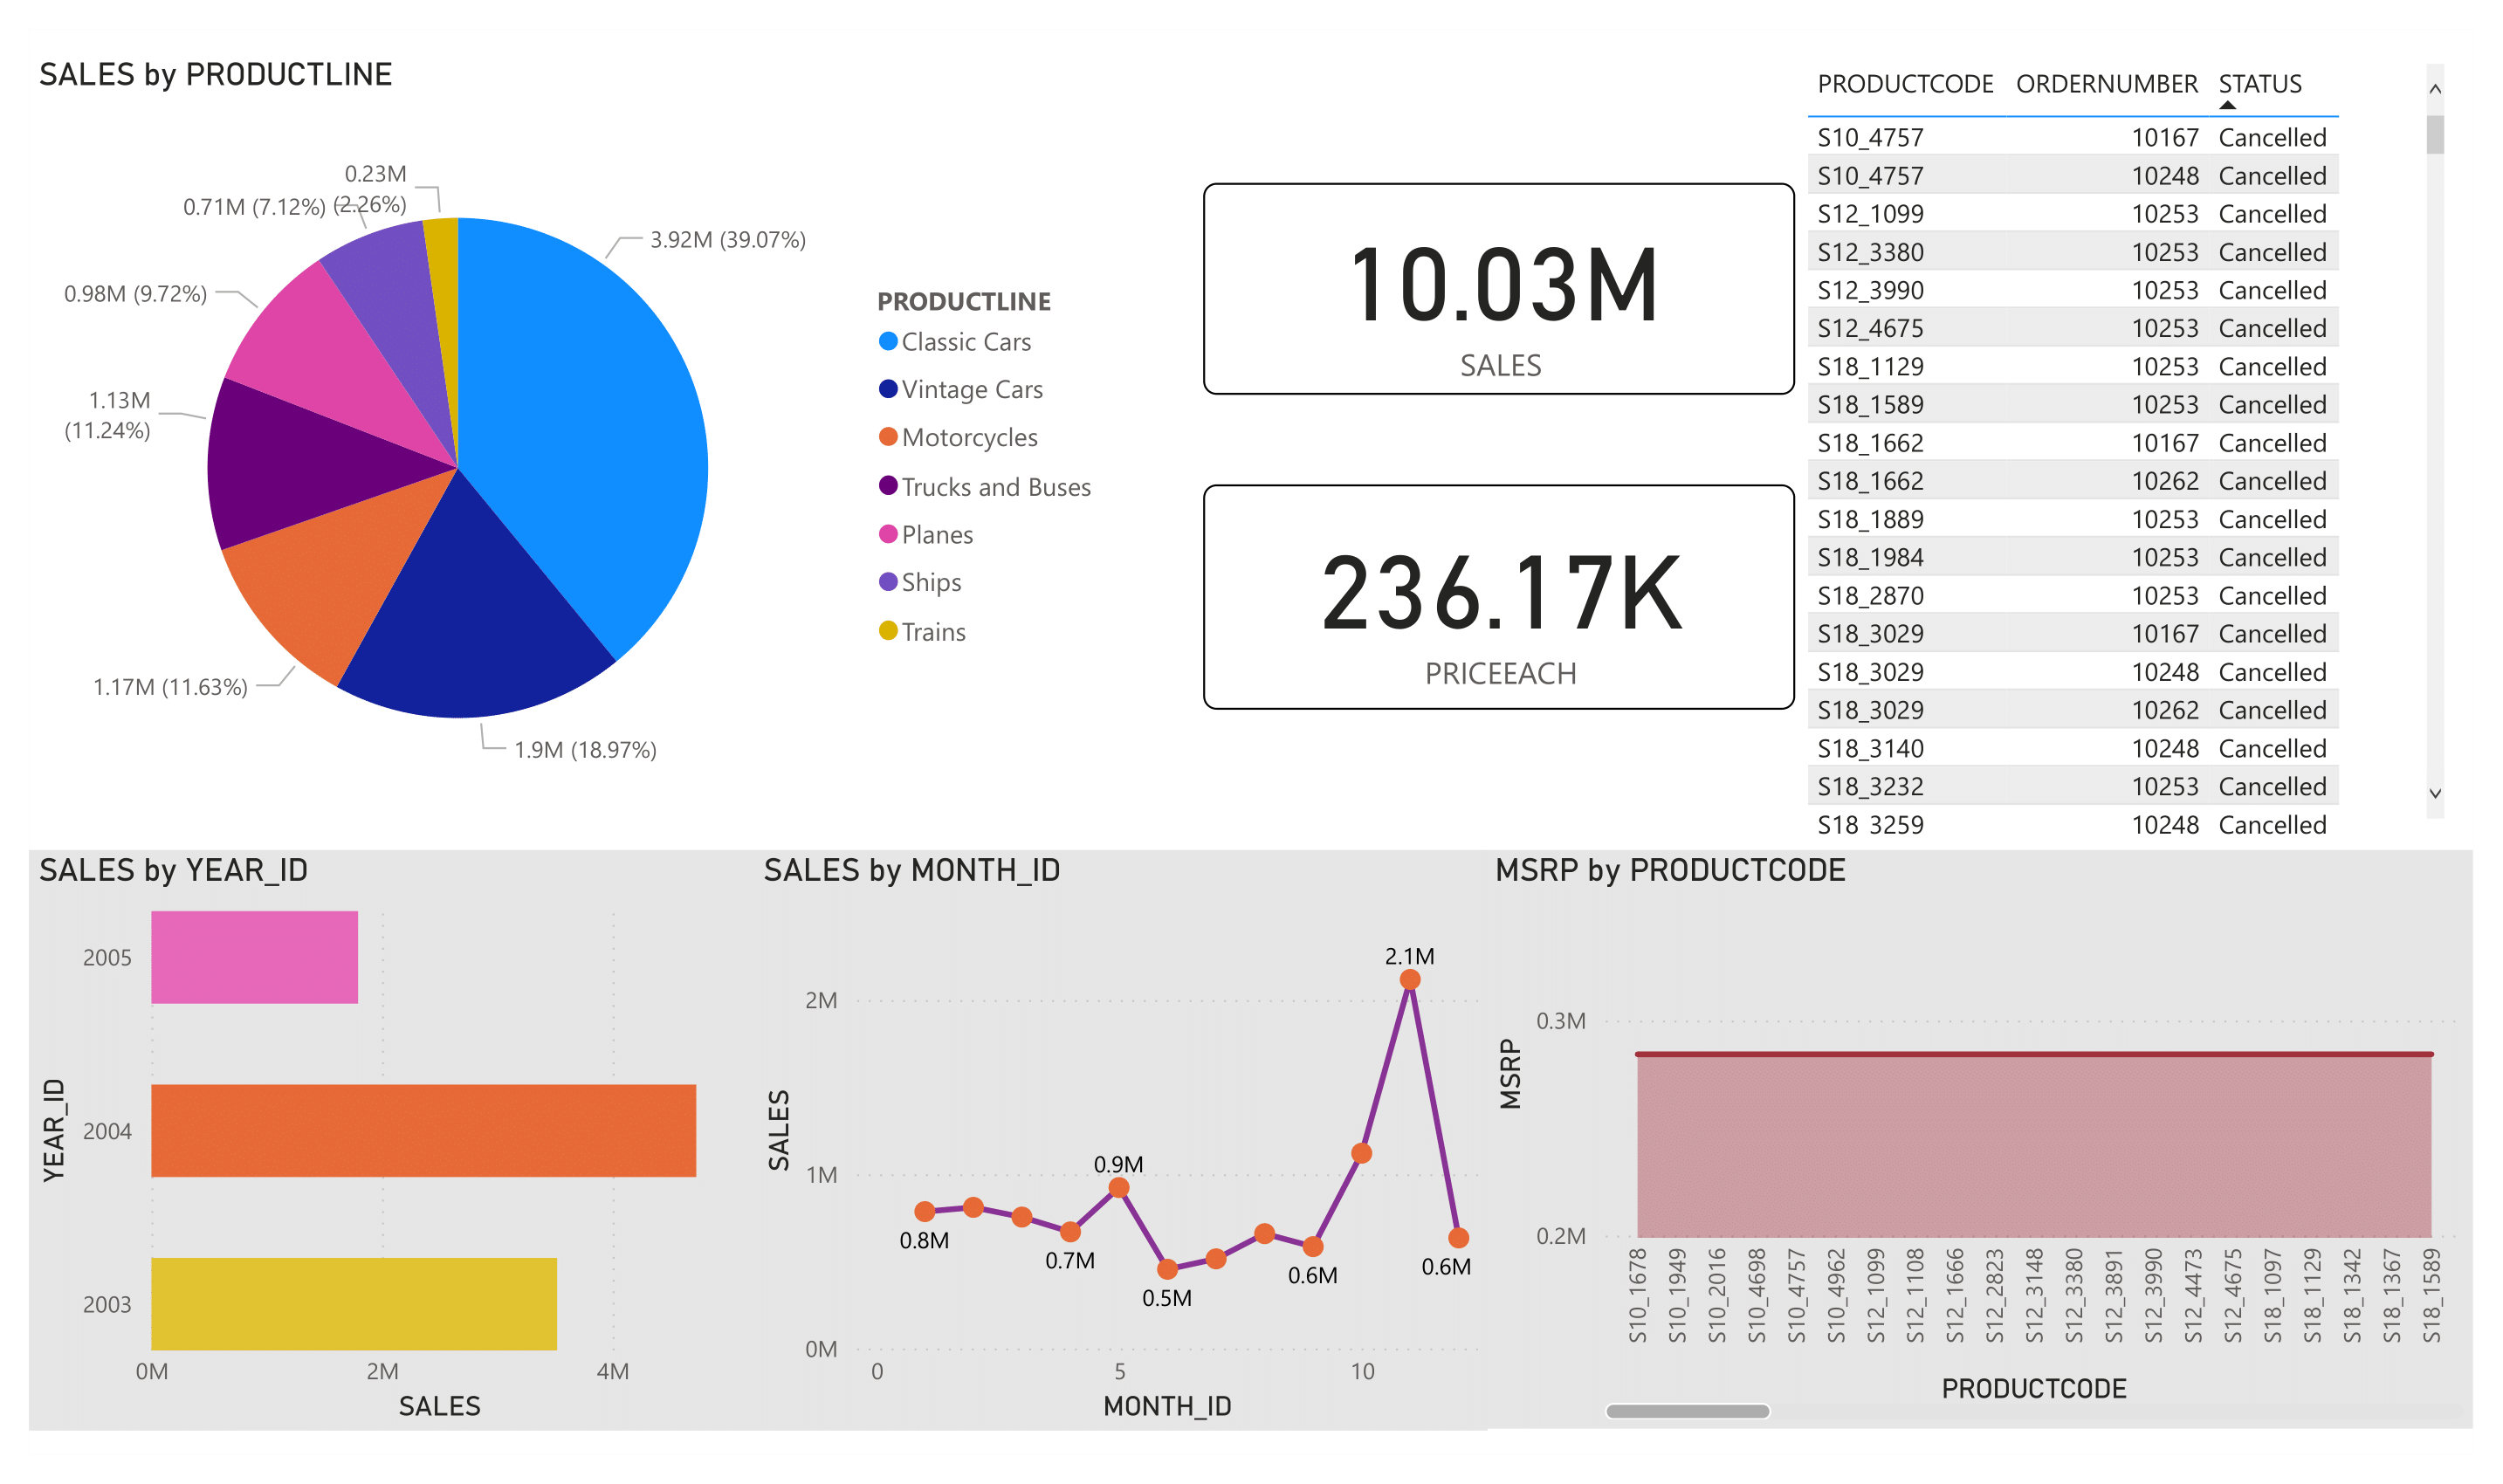

What the dashboard file says about the page in this screenshot:
{"tool":"powerbi","page":{"name":"dashboard","canvas":[1280,720],"ordinal":0},"visuals":[{"type":"clusteredBarChart","fields":{"Category":["ORDER DETAILS.YEAR_ID"],"Y":["Sum(ORDER DETAILS.SALES)"]},"box":[0,415.8,379.6,304.2],"z":0},{"type":"lineChart","fields":{"Y":["Sum(ORDER DETAILS.SALES)"],"Category":["ORDER DETAILS.MONTH_ID"]},"box":[379.6,415.8,383.9,304.2],"z":1000},{"type":"tableEx","fields":{"Values":["ORDER DETAILS.PRODUCTCODE","ORDER DETAILS.ORDERNUMBER","ORDER DETAILS.STATUS"]},"box":[926.3,0,343.6,414.3],"z":2000},{"type":"card","fields":{"Values":["Sum(ORDER DETAILS.SALES)"]},"box":[614.7,67.4,309.9,111.2],"z":3000},{"type":"stackedAreaChart","fields":{"Y":["Sum(PRODUCT DETAILS.MSRP)"],"Category":["ORDER DETAILS.PRODUCTCODE"]},"box":[763.5,415.8,517.2,302.8],"z":4000},{"type":"pieChart","fields":{"Y":["Sum(ORDER DETAILS.SALES)"],"Category":["ORDER DETAILS.PRODUCTLINE"]},"box":[0,0,570.9,414.3],"z":5000},{"type":"card","fields":{"Values":["Sum(ORDER DETAILS.PRICEEACH)"]},"box":[614.7,225.7,309.9,117.9],"z":6000}]}

Visuals, with their boxes on the page's 1280x720 design canvas (x1, y1, x2, y2). These are canvas units, not pixel positions in the 2503x1484 screenshot, which may show the page scaled, cropped or inside an application window:
clusteredBarChart - ORDER DETAILS.YEAR_ID x Sum(ORDER DETAILS.SALES): {"left": 0, "top": 416, "right": 380, "bottom": 720}
lineChart - Sum(ORDER DETAILS.SALES) x ORDER DETAILS.MONTH_ID: {"left": 380, "top": 416, "right": 764, "bottom": 720}
tableEx - ORDER DETAILS.PRODUCTCODE x ORDER DETAILS.ORDERNUMBER: {"left": 926, "top": 0, "right": 1270, "bottom": 414}
card - Sum(ORDER DETAILS.SALES): {"left": 615, "top": 67, "right": 925, "bottom": 179}
stackedAreaChart - Sum(PRODUCT DETAILS.MSRP) x ORDER DETAILS.PRODUCTCODE: {"left": 764, "top": 416, "right": 1281, "bottom": 719}
pieChart - Sum(ORDER DETAILS.SALES) x ORDER DETAILS.PRODUCTLINE: {"left": 0, "top": 0, "right": 571, "bottom": 414}
card - Sum(ORDER DETAILS.PRICEEACH): {"left": 615, "top": 226, "right": 925, "bottom": 344}
